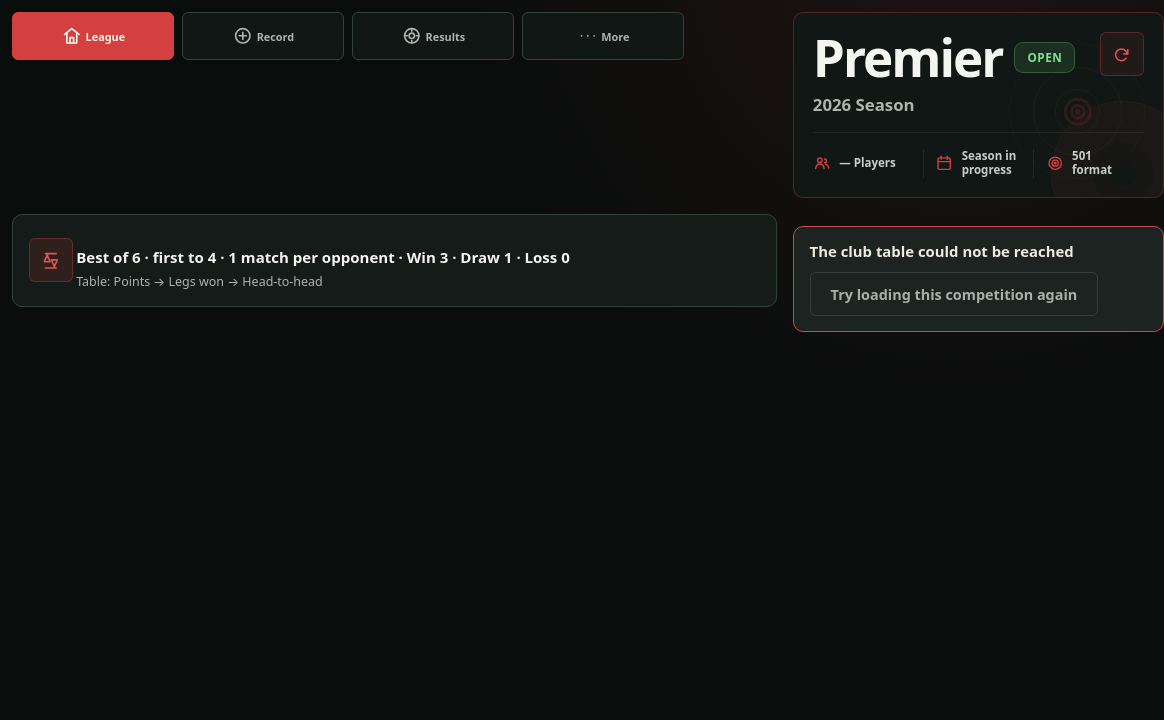
Test: load failure recovery › lets a member retry a failed competition load
This screenshot has width=1164, height=720.
Expected: the message shows "The club table could not be reached", [810,241,1074,261]
Click the button "Try loading this competition again" at (954, 294), box [810,272,1098,316]
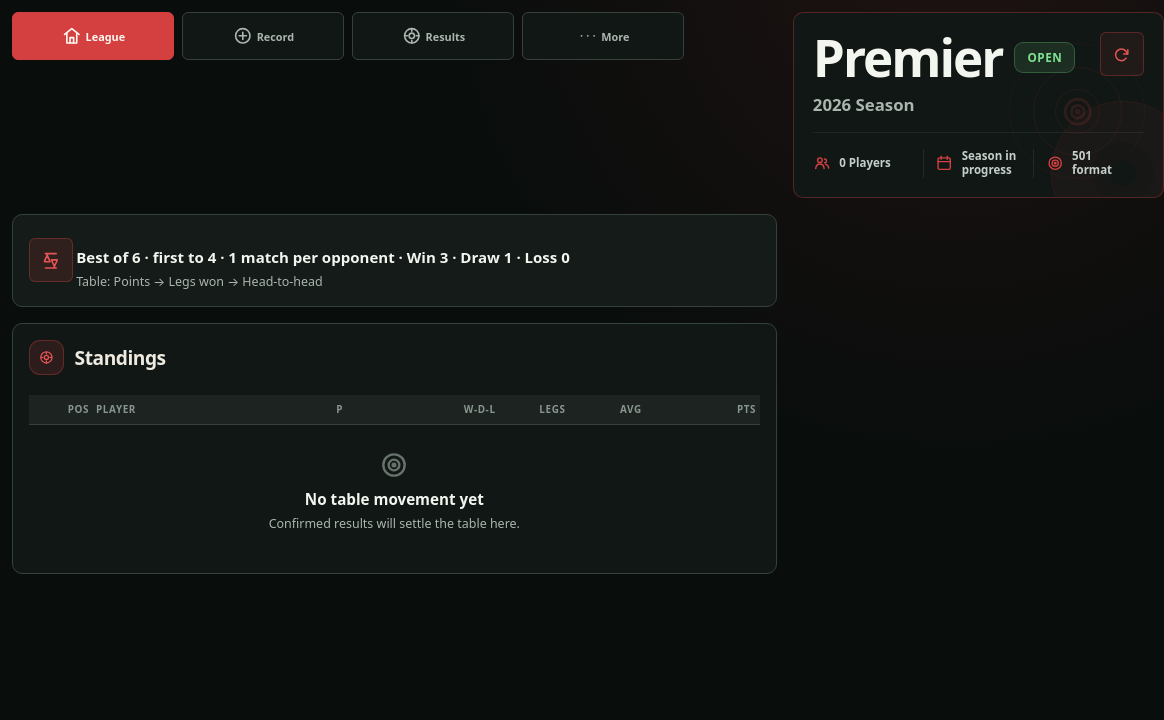
Expected: the button "Try loading this competition again" is gone
Expected: the heading "Standings" is shown, [75,347,166,368]
